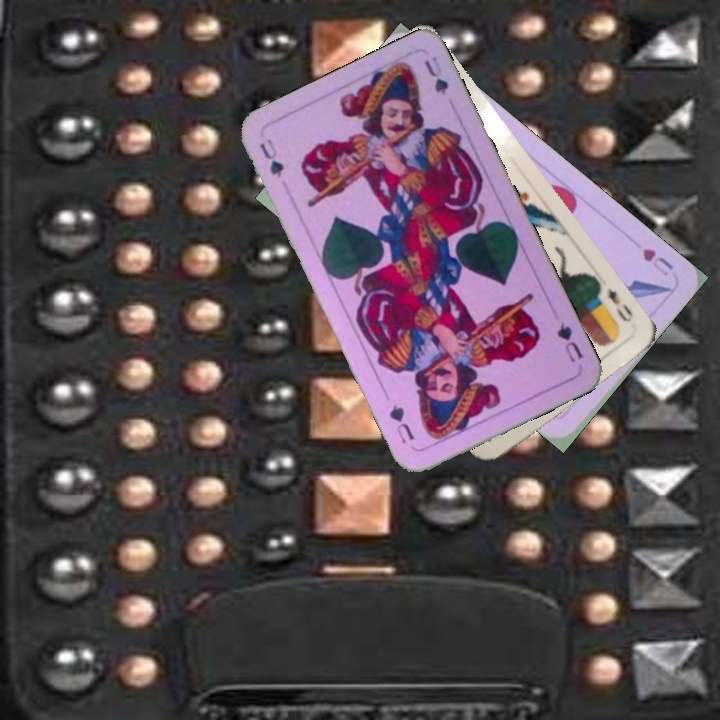EO: (592, 280, 636, 325)
GU: (552, 319, 586, 366), (255, 134, 287, 180)
HU: (638, 244, 676, 279)
